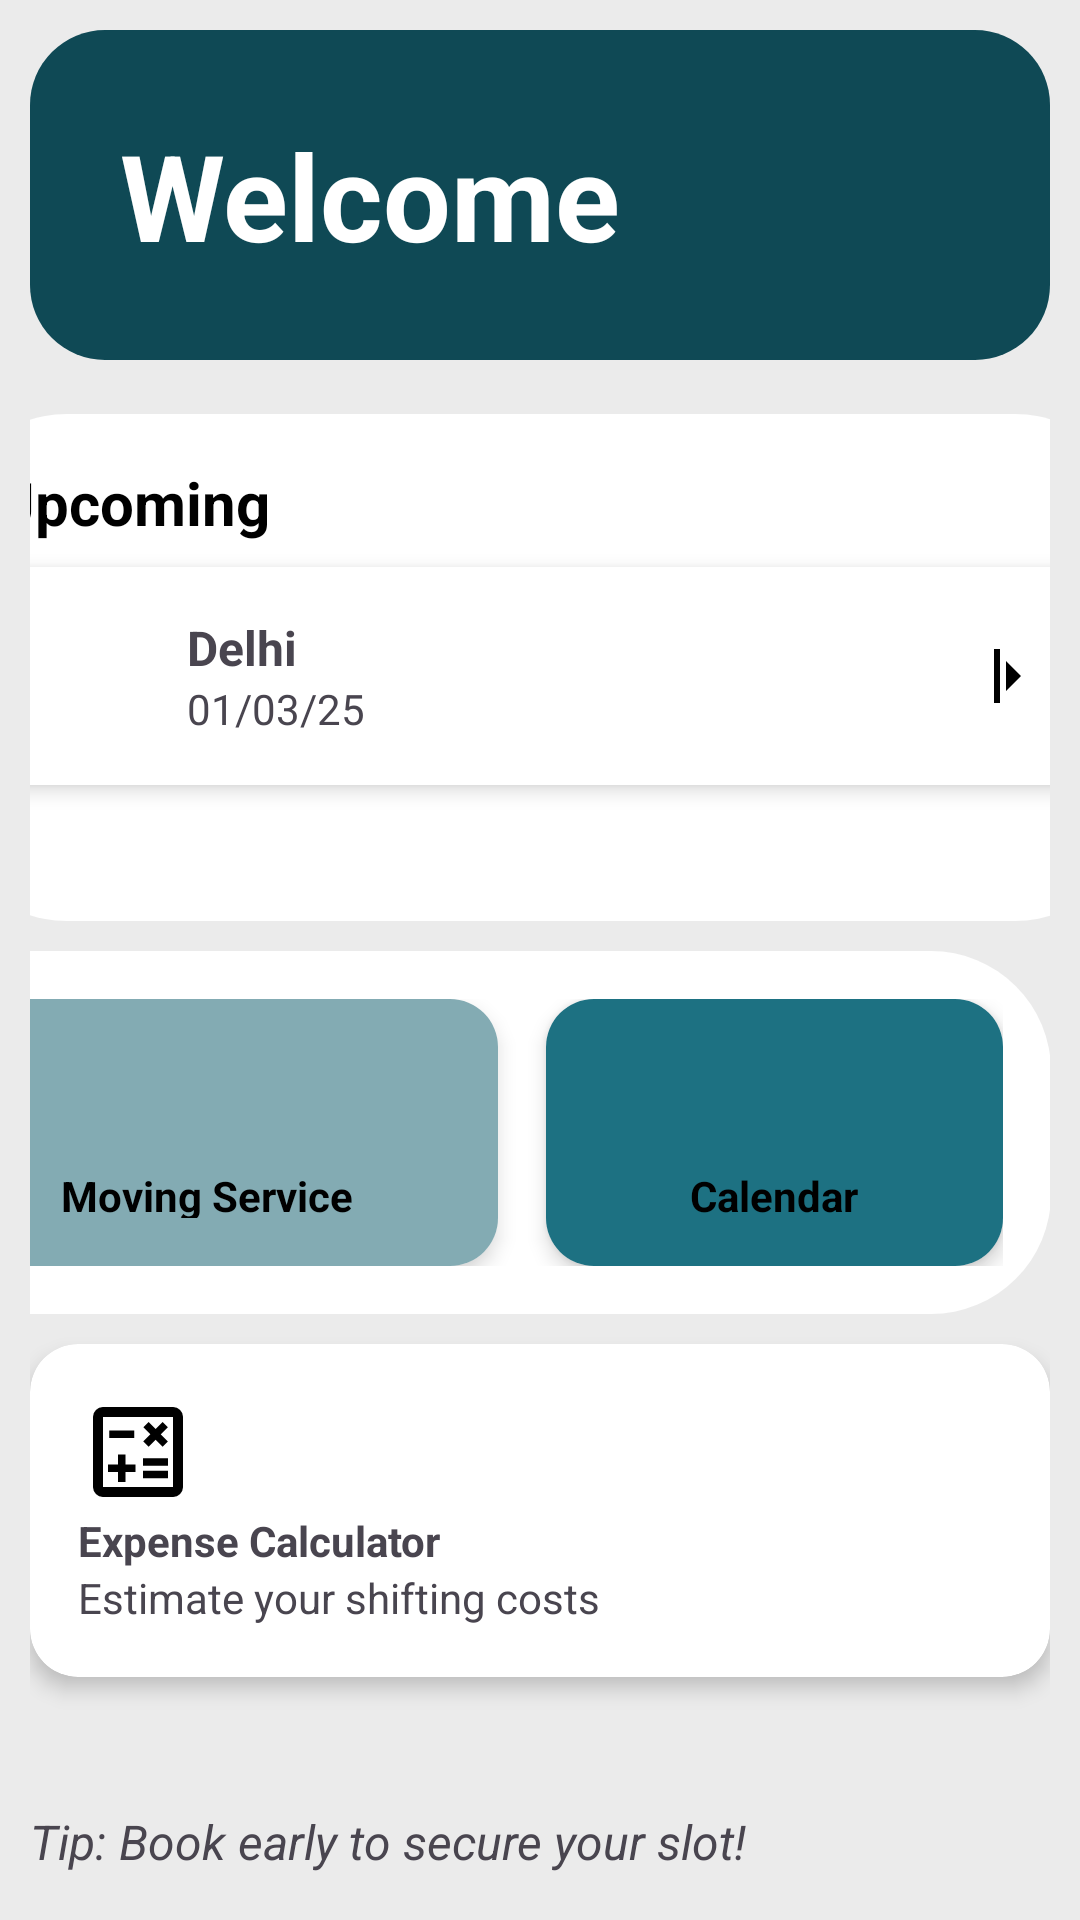

Icons on this 1080*1920 Android screen, each with the point to tap as point (x, y):
arrow menu open: point (1007, 676)
calculate: point (138, 1452)
